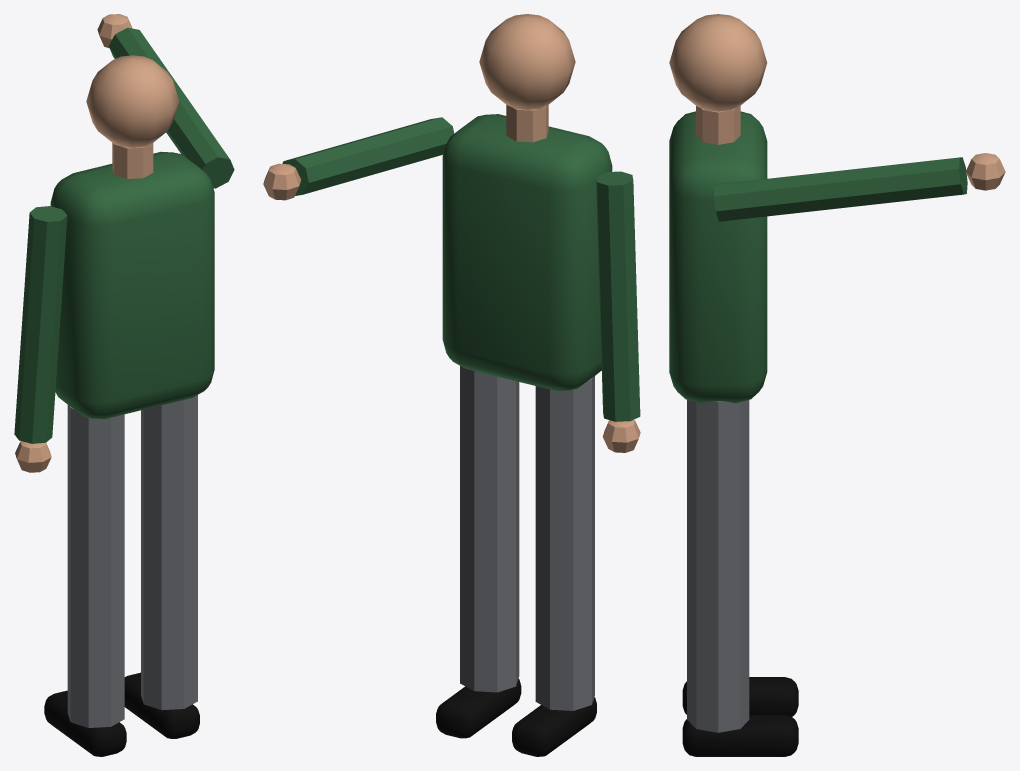
The model's file is people.staff.teacher.glb.
The picture shows the model from 3 angles, left to right: view 1: azimuth 30°, elevation 25°; view 2: azimuth 150°, elevation 25°; view 3: azimuth 270°, elevation 25°; orthographic projection. The views are drawn at different scales.
Parts seen in each view (by area): view 1: main__fabric_green, main__fabric_grey, main__skin, main__plastic_black; view 2: main__fabric_green, main__fabric_grey, main__skin, main__plastic_black; view 3: main__fabric_green, main__fabric_grey, main__skin, main__plastic_black.
Boxes of the visible parts, left/top/right/bottom form: main__fabric_green: left=14, top=27, right=234, bottom=443; main__fabric_grey: left=67, top=395, right=197, bottom=727; main__skin: left=15, top=14, right=179, bottom=472; main__plastic_black: left=44, top=672, right=199, bottom=756; main__fabric_green: left=282, top=114, right=640, bottom=421; main__fabric_grey: left=460, top=366, right=594, bottom=710; main__skin: left=263, top=14, right=640, bottom=452; main__plastic_black: left=436, top=678, right=596, bottom=756; main__fabric_green: left=669, top=111, right=967, bottom=403; main__fabric_grey: left=687, top=399, right=749, bottom=732; main__skin: left=669, top=14, right=1005, bottom=190; main__plastic_black: left=682, top=677, right=798, bottom=756.
Bounding box in the file's own units: 0.65 × 1.77 × 0.755.
